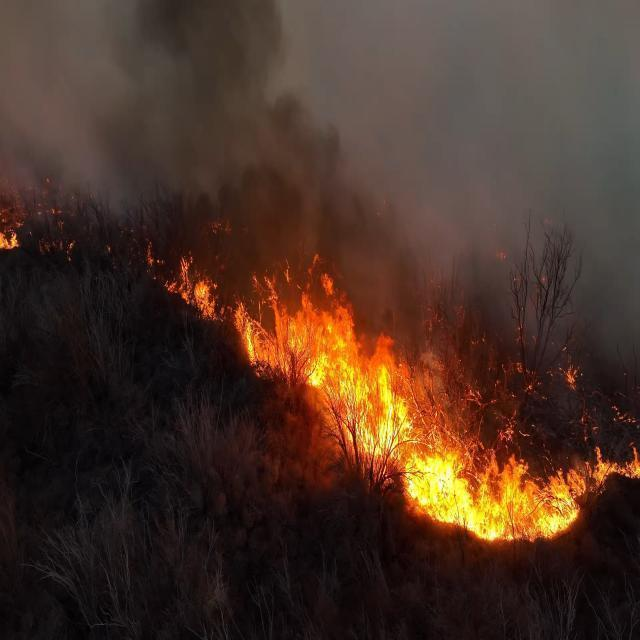Fire: (403, 446, 569, 549), (244, 253, 354, 405), (318, 334, 442, 454), (571, 438, 640, 502), (179, 245, 216, 315)
Smoke: (139, 0, 317, 188)
